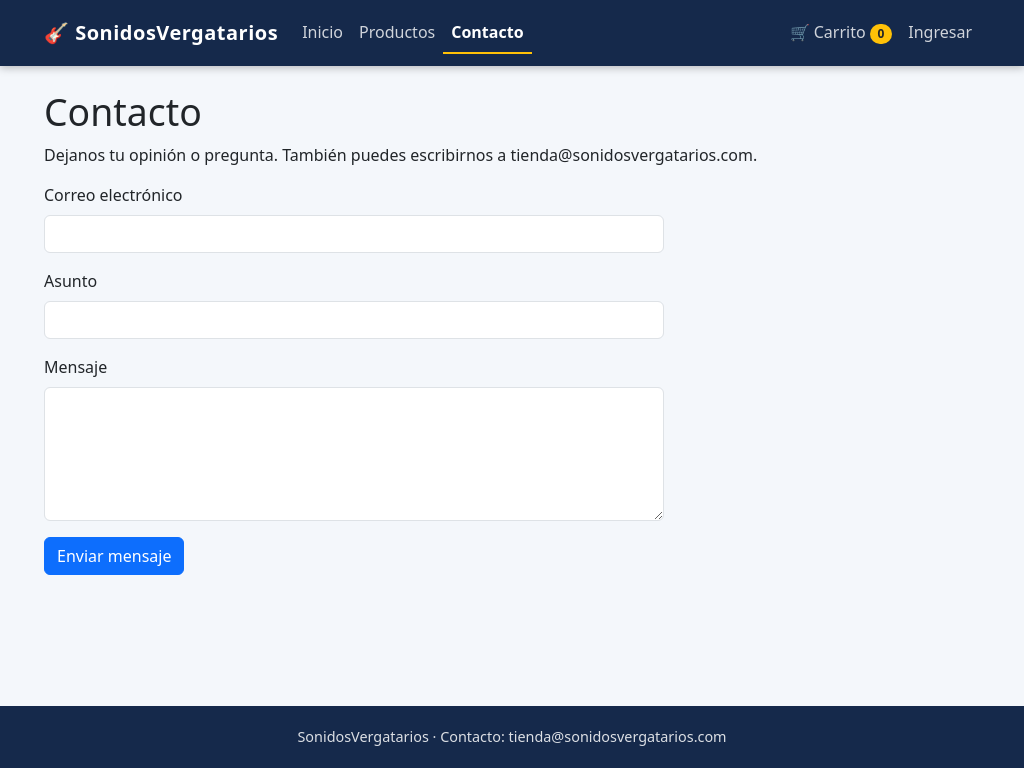
Test: administración y contacto › valida contacto y muestra una confirmación local
The width and height of the screenshot is (1024, 768).
Step 1. Click the button "Enviar mensaje" → (114, 556), box [44,537,184,575]
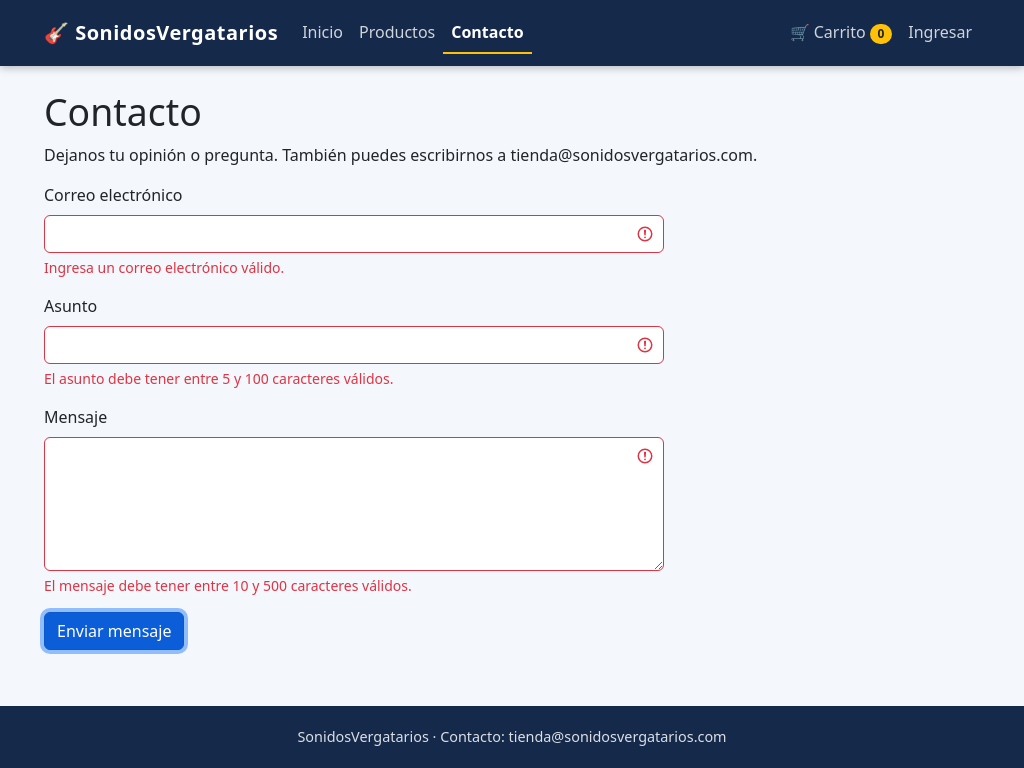
Expected: the text "Ingresa un correo electrónico válido." is shown, [44,258,284,277]
Expected: the text "El asunto debe tener entre 5 y 100 caracteres válidos." is shown, [44,369,394,388]
Step 2. Type "alumno@duoc.cl" into the field labelled "Correo electrónico" → (354, 234), box [44,215,664,253]
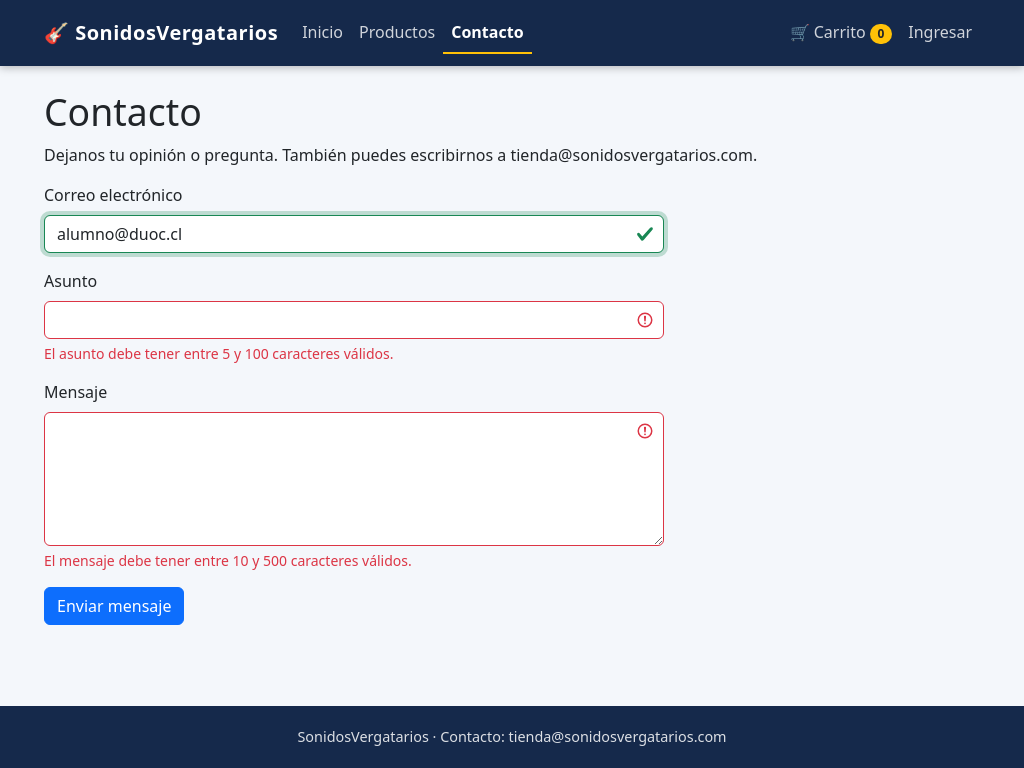
Step 3. Type "Consulta por stock" into the field labelled "Asunto" → (354, 320), box [44,301,664,339]
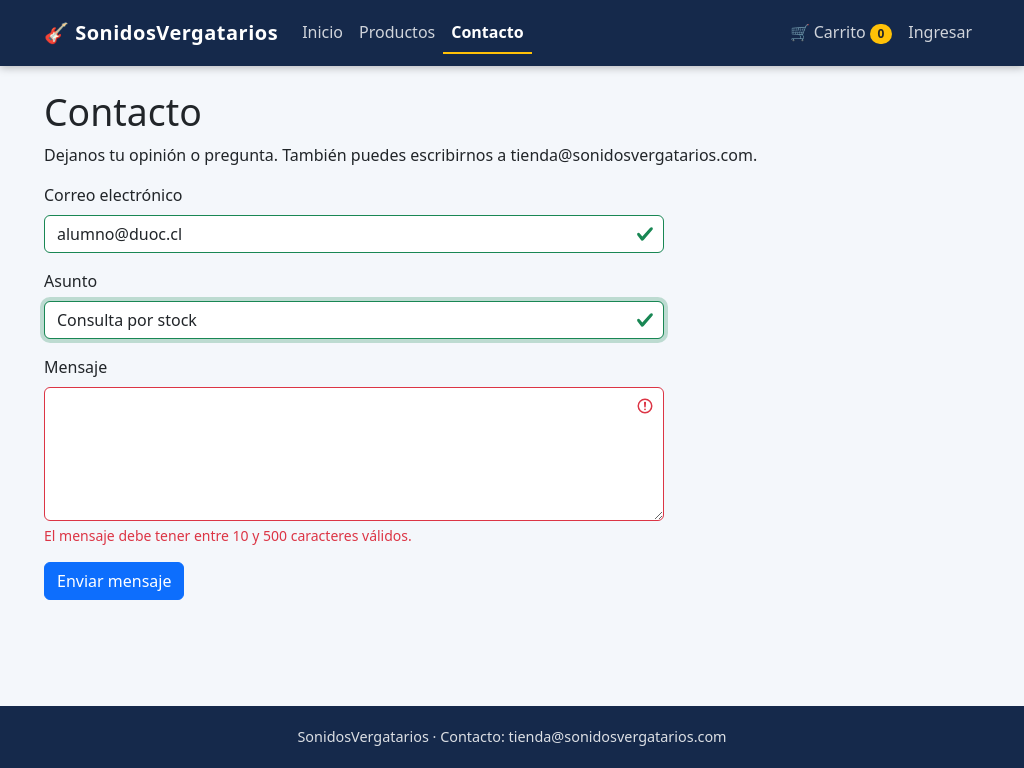
Step 4. Type "Quiero conocer el stock de un instrumento." into the text box labelled "Mensaje" → (354, 454), box [44,387,664,521]
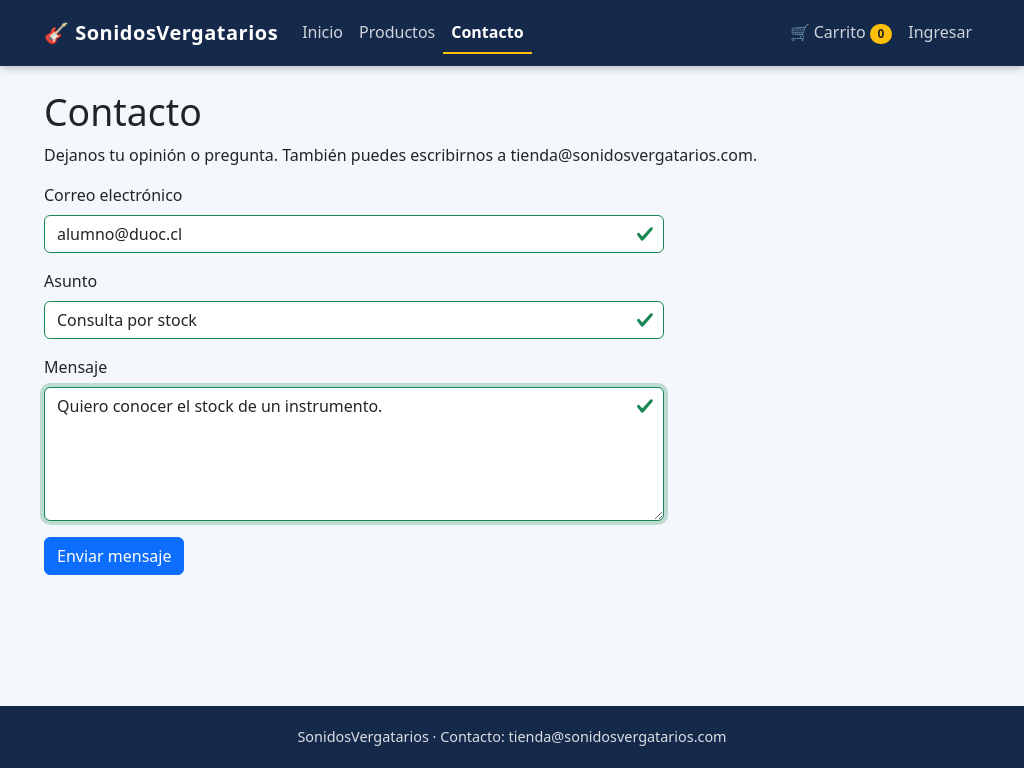
Step 5. Click the button "Enviar mensaje" → (114, 556), box [44,537,184,575]
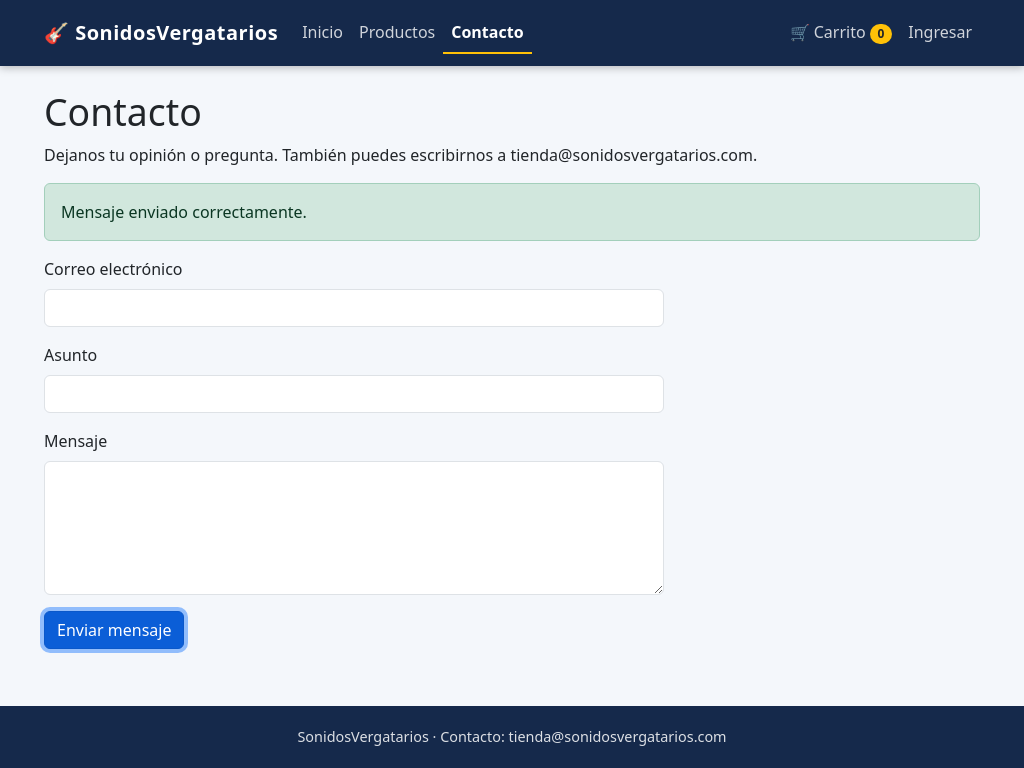
Expected: the text "Mensaje enviado correctamente." is shown, [44,183,980,241]
Expected: the field labelled "Correo electrónico" is empty, [44,289,664,327]
